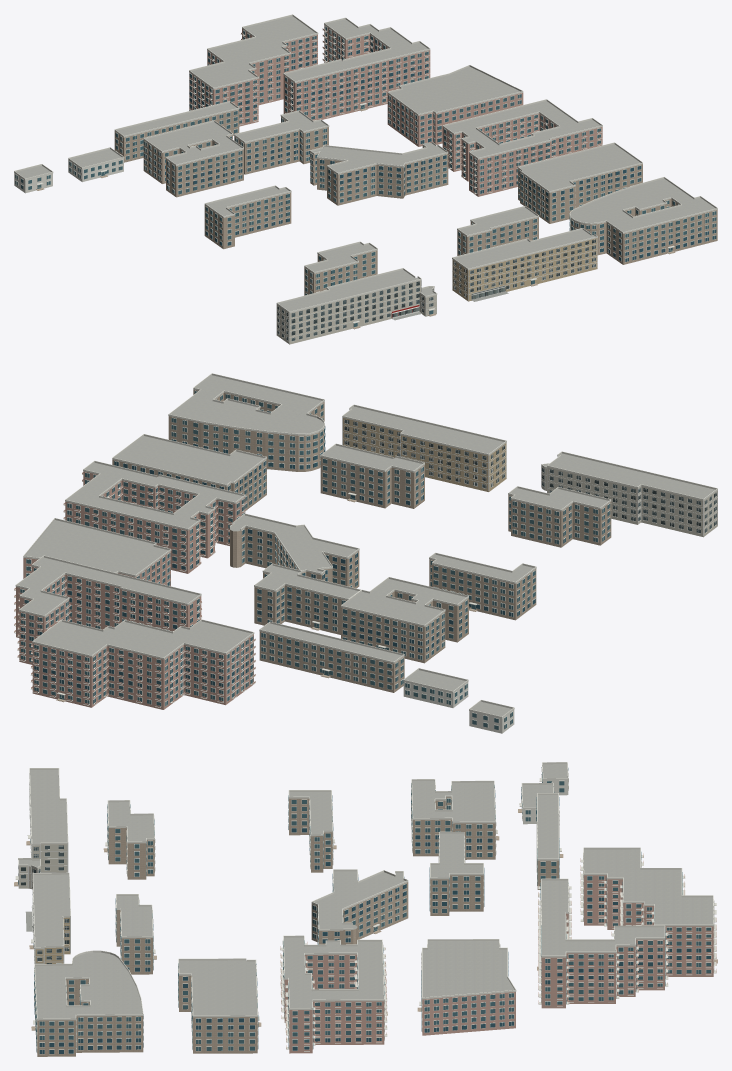
File: chunk-p1-n2.glb
The picture shows the model from 3 angles, top to bottom: view 1: azimuth 30°, elevation 25°; view 2: azimuth 150°, elevation 25°; view 3: azimuth 270°, elevation 25°; orthographic projection. The views are drawn at different scales.
Visible parts, largest first — view 1: chunk-p1-n2; view 2: chunk-p1-n2; view 3: chunk-p1-n2.
Part boxes in pixels (x1,y1,x2,y2): chunk-p1-n2: (14,14,717,344); chunk-p1-n2: (14,373,717,733); chunk-p1-n2: (14,762,717,1056).
Bounding box in the file's own units: 271 × 28.87 × 297.
20 materials, 2 textured.
